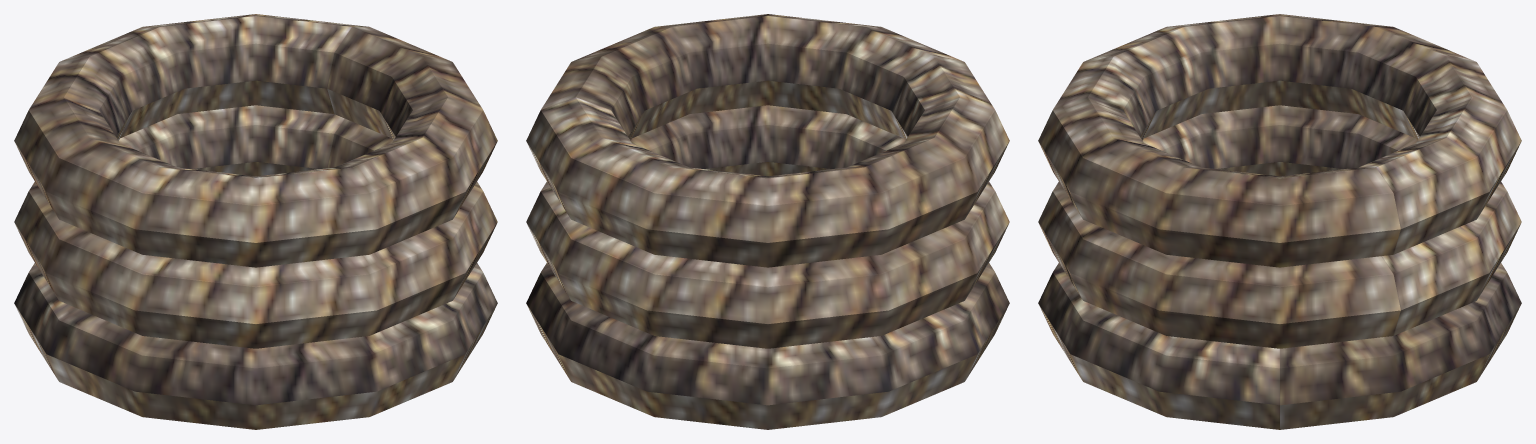
File: SM_wPostTies.FBX
3 renders of one model, left to right at view 1: azimuth 30°, elevation 25°; view 2: azimuth 150°, elevation 25°; view 3: azimuth 270°, elevation 25°, orthographic.
Visible parts, largest first — view 1: SM_wPostTies; view 2: SM_wPostTies; view 3: SM_wPostTies.
Boxes of the visible parts, x1,y1,x2,y2 form: SM_wPostTies: (14, 14, 497, 429); SM_wPostTies: (526, 14, 1009, 429); SM_wPostTies: (1038, 14, 1521, 429).
Bounding box in the file's own units: 40.28 × 22.92 × 40.28.
